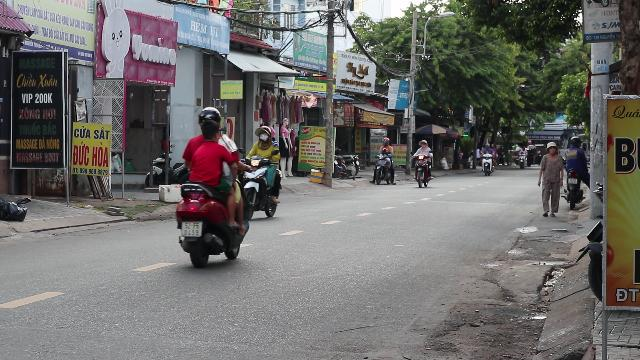helmet: (197, 106, 220, 122), (254, 126, 272, 142)
licenseplate: (181, 222, 201, 236)
motorcyclist: (172, 106, 246, 268), (240, 125, 284, 219)
nohelmet: (198, 120, 222, 142)
